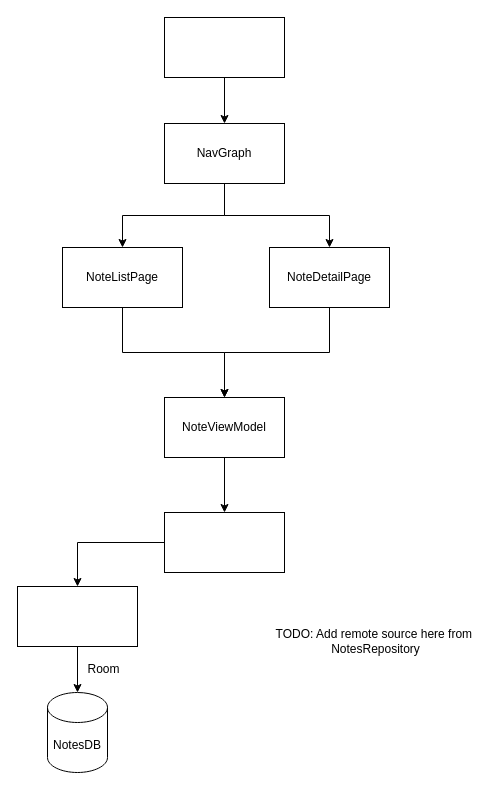
This 502x790 diagram has some shape labels left out. The centre of each missing label's shape, as x and y in pixels:
MainActivity: point (224, 47)
NoteDao: point (77, 616)
NotesRepository: point (224, 542)
